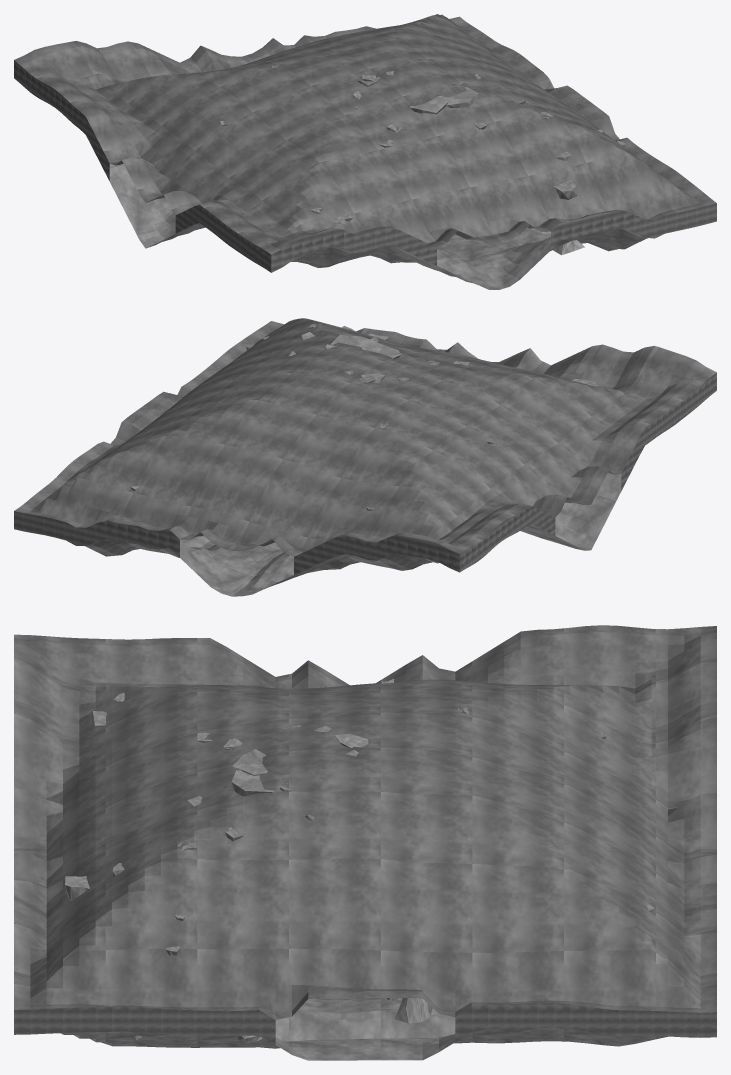
The picture shows the model from 3 angles, top to bottom: view 1: azimuth 30°, elevation 25°; view 2: azimuth 150°, elevation 25°; view 3: azimuth 270°, elevation 25°; orthographic projection. The views are drawn at different scales.
Visible parts, largest first — view 1: CavernVault, CavernFloor, CavernWalls, CavernStalactites, CavernColumns; view 2: CavernVault, CavernWalls, CavernFloor, CavernStalactites; view 3: CavernVault, CavernFloor, CavernWalls, CavernStalactites, CavernColumns, CavernStalagmites.
Part boxes in pixels (x1,y1,x2,y2): CavernVault: (14, 14, 716, 254); CavernFloor: (109, 163, 647, 289); CavernWalls: (14, 60, 716, 272); CavernStalactites: (187, 65, 624, 224); CavernColumns: (410, 96, 584, 255); CavernVault: (14, 318, 716, 556); CavernWalls: (14, 372, 716, 574); CavernFloor: (85, 473, 621, 596); CavernStalactites: (130, 324, 597, 510); CavernVault: (14, 625, 716, 1019); CavernFloor: (60, 998, 667, 1060); CavernWalls: (14, 1003, 716, 1044); CavernStalactites: (92, 679, 653, 955); CavernColumns: (65, 749, 267, 901); CavernStalagmites: (131, 998, 438, 1043).
Bounding box in the file's own units: 92 × 29.32 × 92.
5 materials, 5 textured.
